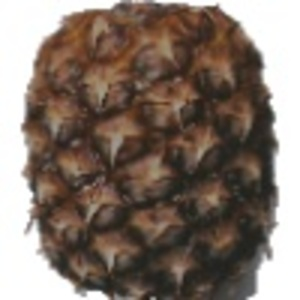abacaxi: (13, 3, 279, 297)
